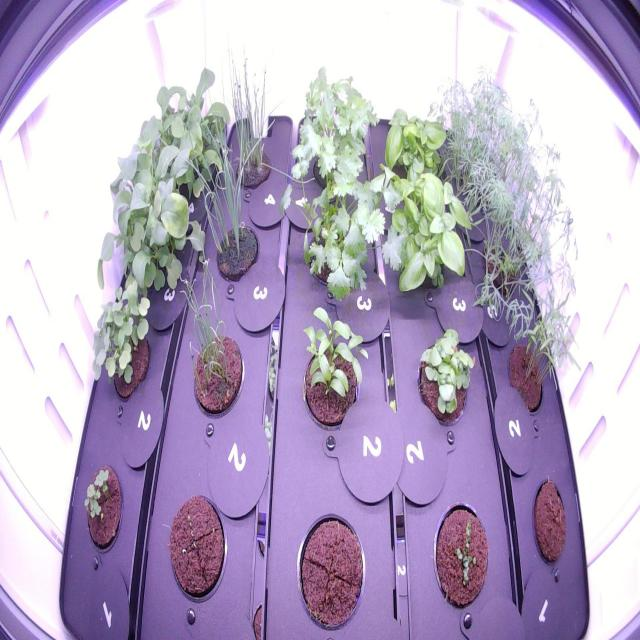germination: (81, 279, 158, 411), (424, 491, 494, 617), (73, 457, 133, 562)
pod: (285, 503, 373, 631), (158, 488, 232, 612), (526, 471, 573, 578)
